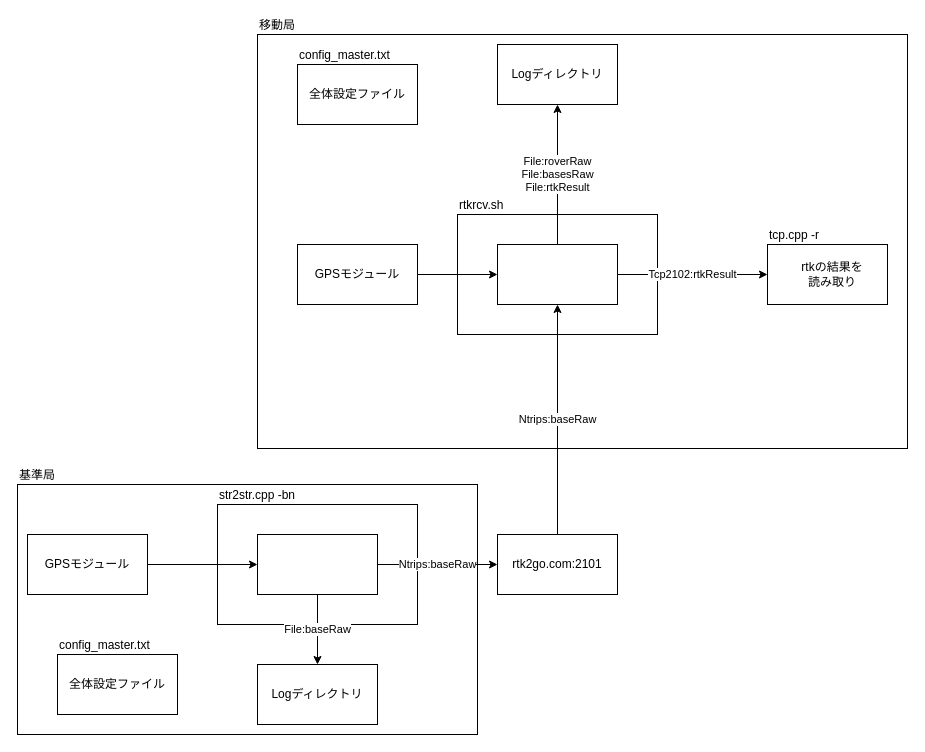
This 925x752 diagram has some shape labels left out. The centre of each missing label's shape, as x and y in pixels:
"rtkrcv" belongs at point 557,274.
"str2str" belongs at point 317,564.
